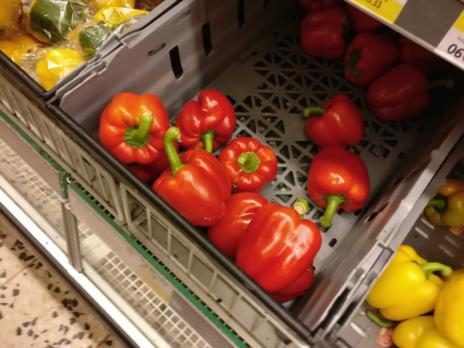Capsicum: (297, 32, 427, 112), (303, 96, 378, 227), (233, 198, 320, 297), (157, 139, 232, 225), (96, 92, 169, 164), (176, 89, 234, 145), (227, 133, 281, 192)
